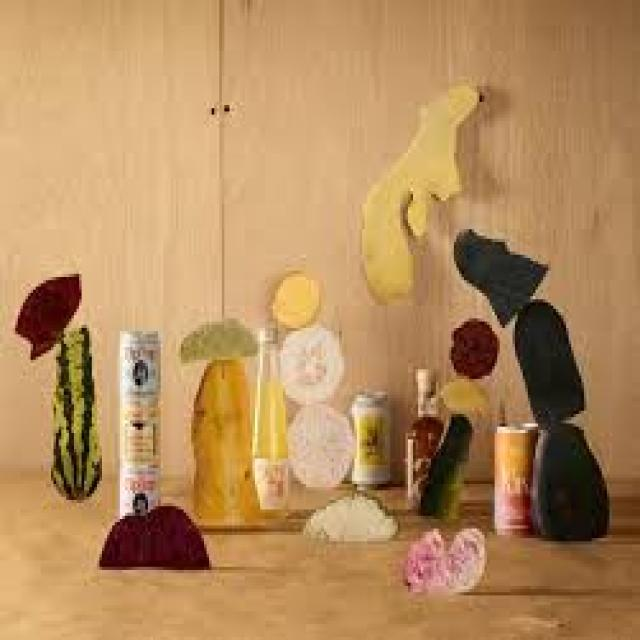Cans: (112, 325, 168, 519), (492, 421, 543, 542), (347, 386, 400, 490)
